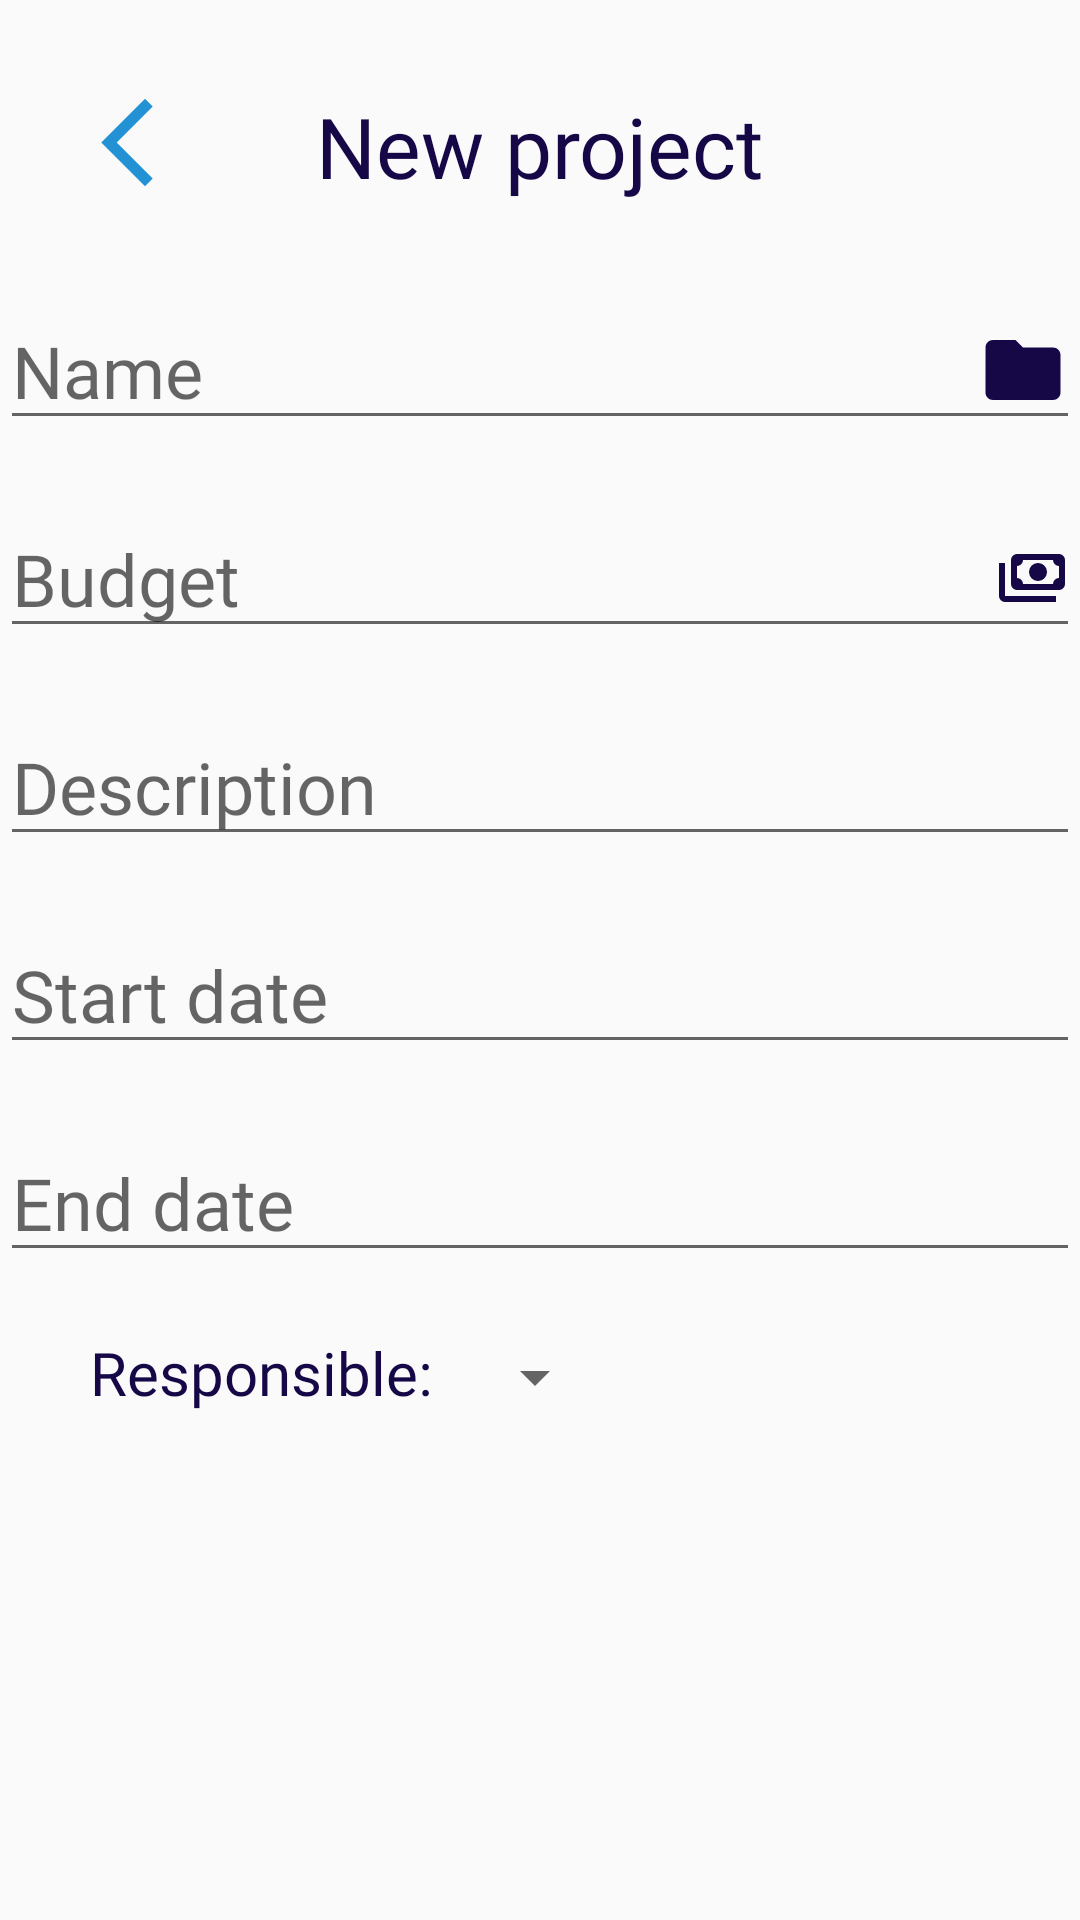

Locate icon controls on the screen. Image size 1080px×1920px, boxes as (x1, y1, x2, y2).
back: (101, 99, 153, 186)
